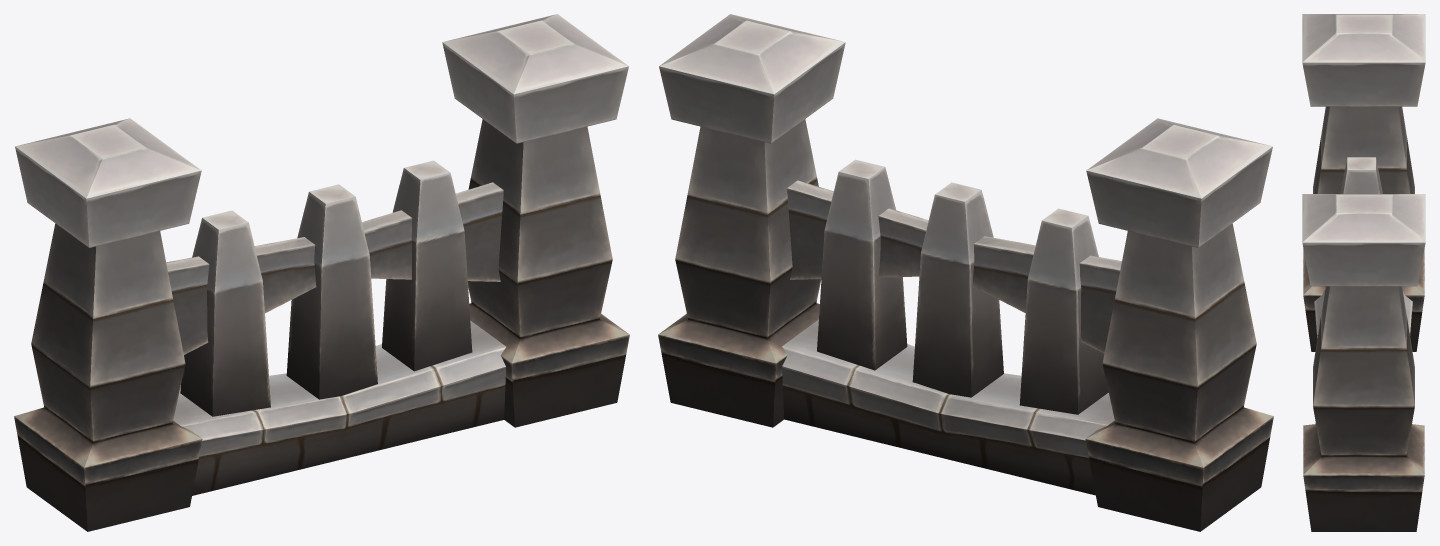
Rendered from Dwarf_Village_Props_04.FBX.
3 views of the same model, side by side, from view 1: azimuth 30°, elevation 25°; view 2: azimuth 150°, elevation 25°; view 3: azimuth 270°, elevation 25° (orthographic). The views are drawn at different scales.
Visible parts, largest first — view 1: Dwarf_Village_Props_04; view 2: Dwarf_Village_Props_04; view 3: Dwarf_Village_Props_04.
Part boxes in pixels (x1,y1,x2,y2): Dwarf_Village_Props_04: (14,14,629,531); Dwarf_Village_Props_04: (658,14,1273,531); Dwarf_Village_Props_04: (1302,14,1425,531).
Bounding box in the file's own units: 544 × 339 × 123.
